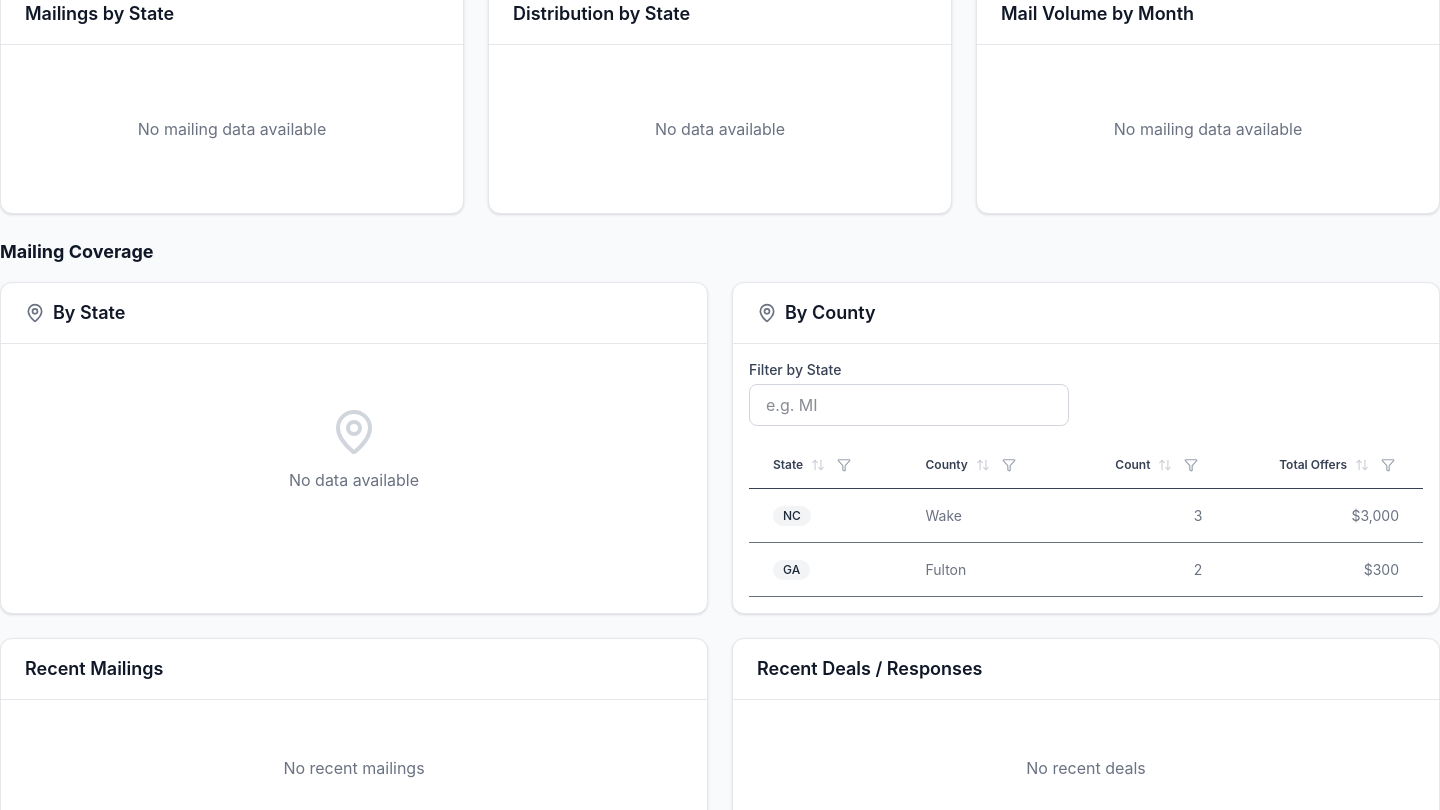
Test: Dashboard → Mailing Coverage → By County › trims the typed state and sends it to the API, showing only matching counties
The width and height of the screenshot is (1440, 810).
(page scrolled)
Expected: the text "Fulton" is shown, 902,542 -> 1068,596
Type "  nc  " into the field with placeholder "e.g. MI" at x=909, y=405, box 749,384 -> 1069,426
(page scrolled)
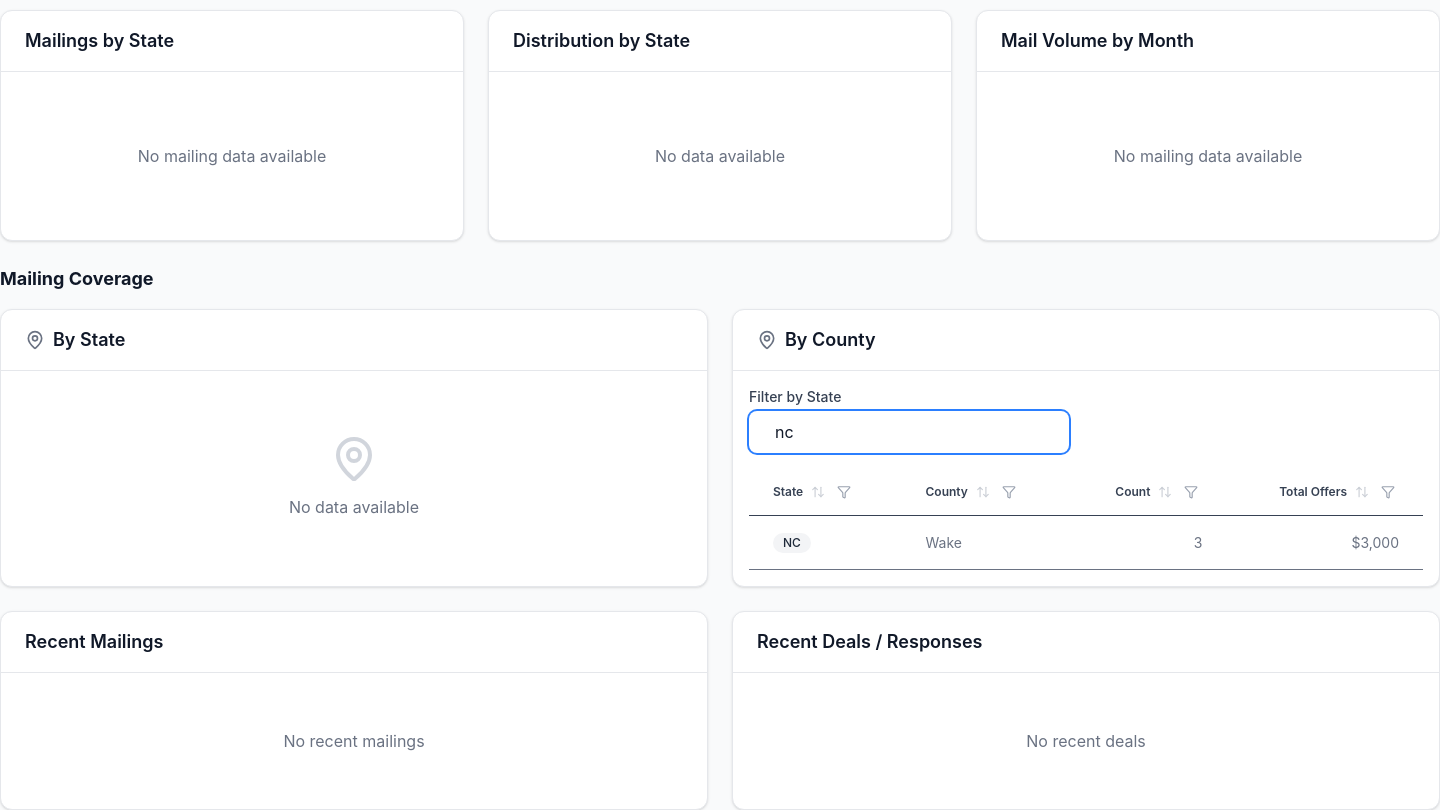
Expected: the text "Wake" is shown, 902,516 -> 1068,570
Now the text "Fulton" is gone
